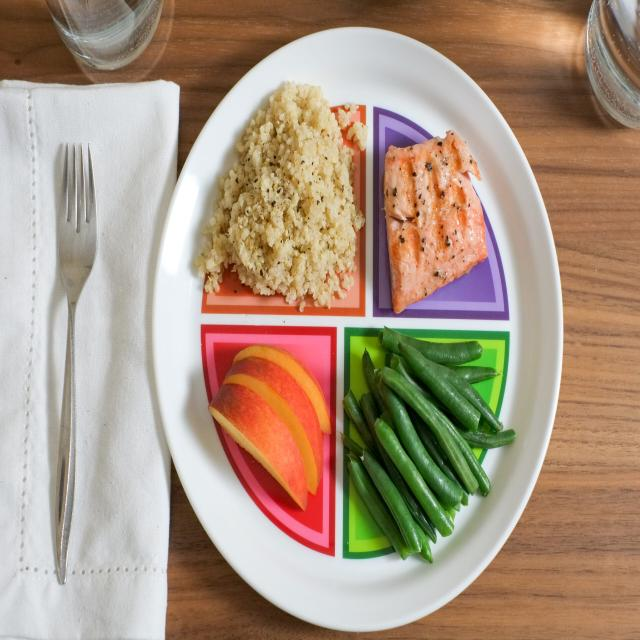Fish: (384, 131, 487, 312)
Fruits: (208, 346, 330, 510)
Green veg: (343, 328, 515, 561)
Rice: (196, 82, 364, 309)
